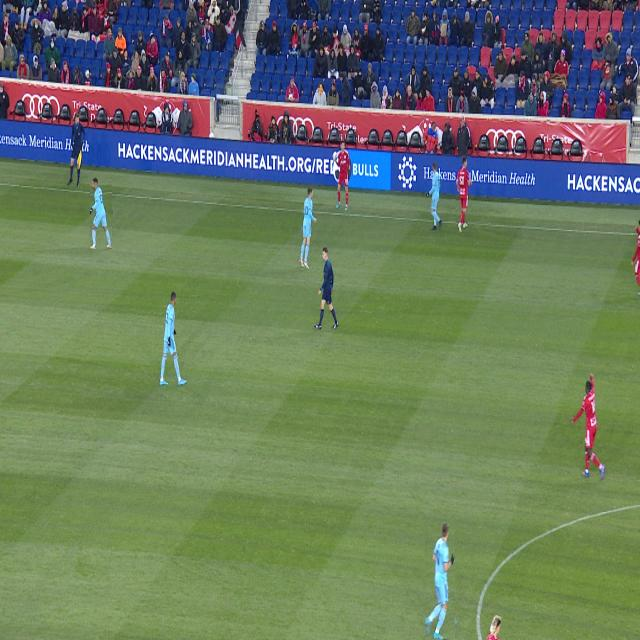player: (570, 374, 605, 479), (426, 522, 455, 640), (160, 291, 187, 386), (90, 178, 112, 249), (299, 188, 317, 269), (426, 162, 442, 230), (457, 156, 471, 233), (631, 220, 640, 287), (485, 615, 502, 640)
referee: (314, 247, 339, 329)
